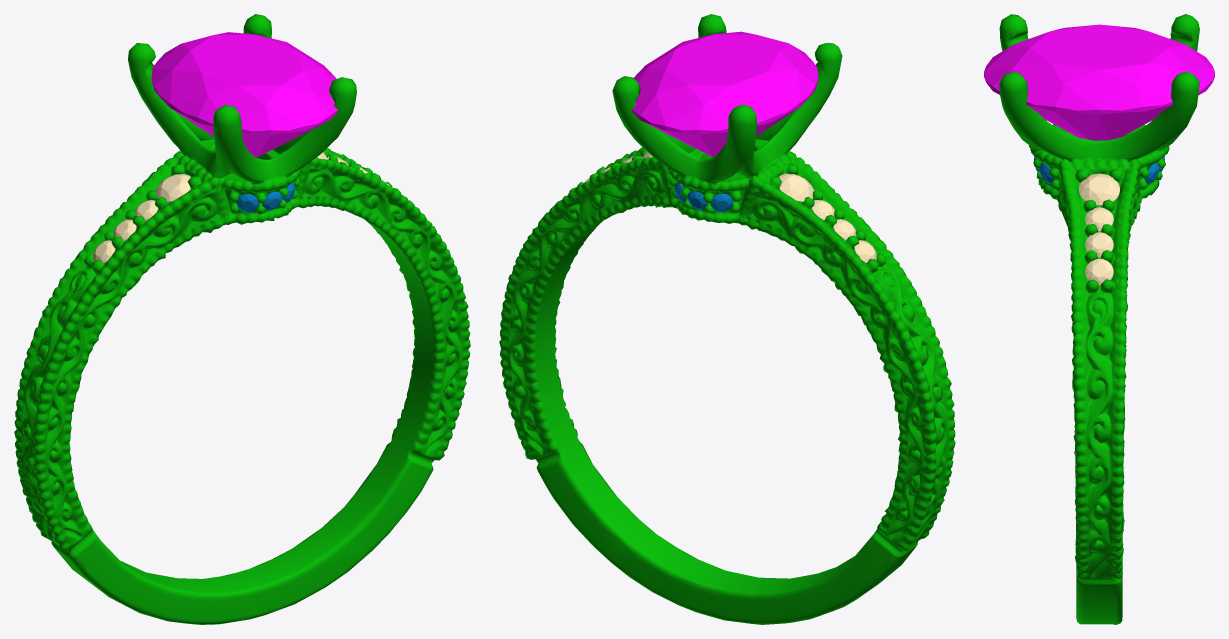
Rendered from BE132D_OV_200ct_RENDER.glb.
3 renders of one model, left to right at view 1: azimuth 30°, elevation 25°; view 2: azimuth 150°, elevation 25°; view 3: azimuth 270°, elevation 25°, orthographic.
Visible parts, largest first — view 1: Metal 01, CS_Diamond_Oval, Diamond_Round_Gem_SH.006; view 2: Metal 01, CS_Diamond_Oval, Diamond_Round_Gem_SH.006; view 3: Metal 01, CS_Diamond_Oval, Diamond_Round_Gem_SH.002, Diamond_Round_Gem_SH, Diamond_Round_Gem_SH.001, Diamond_Round_Gem_SH.003.
Part boxes in pixels (<box>): Metal 01: <box>14,14,470,624</box>; CS_Diamond_Oval: <box>151,32,337,157</box>; Diamond_Round_Gem_SH.006: <box>155,174,190,202</box>; Metal 01: <box>499,14,955,624</box>; CS_Diamond_Oval: <box>632,31,818,156</box>; Diamond_Round_Gem_SH.006: <box>779,173,814,201</box>; Metal 01: <box>999,14,1199,624</box>; CS_Diamond_Oval: <box>984,24,1214,140</box>; Diamond_Round_Gem_SH.002: <box>1079,173,1119,205</box>; Diamond_Round_Gem_SH: <box>1085,258,1113,285</box>; Diamond_Round_Gem_SH.001: <box>1085,232,1113,257</box>; Diamond_Round_Gem_SH.003: <box>1085,207,1113,231</box>.
Bounding box in the file's own units: 19.8 × 23.97 × 9.
